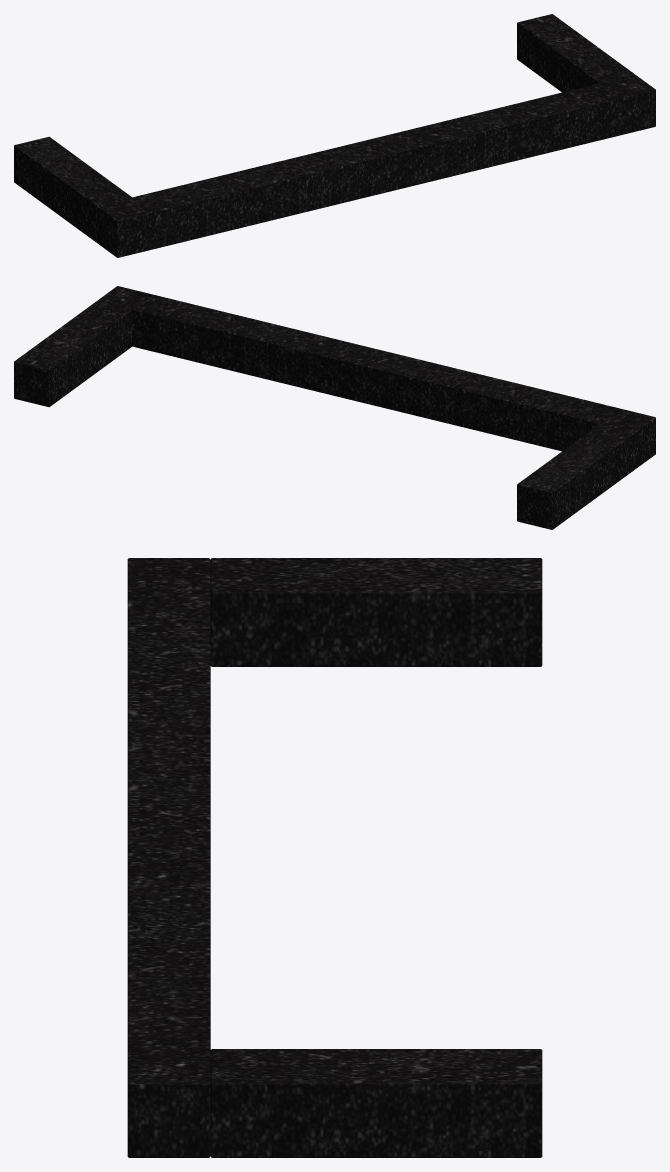
Rendered from Frame 150 x  40 x 10.gltf.
3 views of the same model, one above another, from view 1: azimuth 30°, elevation 25°; view 2: azimuth 150°, elevation 25°; view 3: azimuth 270°, elevation 25° (orthographic). The views are drawn at different scales.
Parts seen in each view (by area): view 1: Cube.059; view 2: Cube.059; view 3: Cube.059.
Boxes of the visible parts, x1,y1,x2,y2 form: Cube.059: (14,14,655,257); Cube.059: (14,286,655,529); Cube.059: (127,558,542,1157).
Bounding box in the file's own units: 1.5 × 0.1 × 0.5.
1 material, 1 textured.
